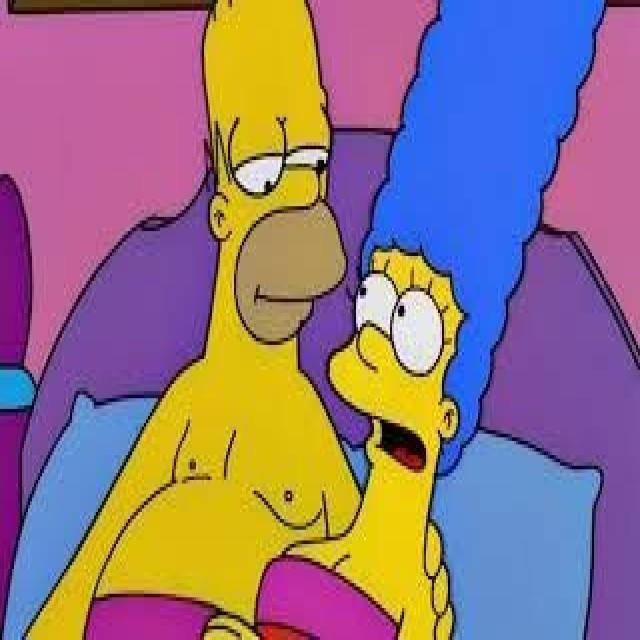Homer Simpson: (194, 0, 354, 384)
Marge Simpson: (321, 0, 615, 526)
